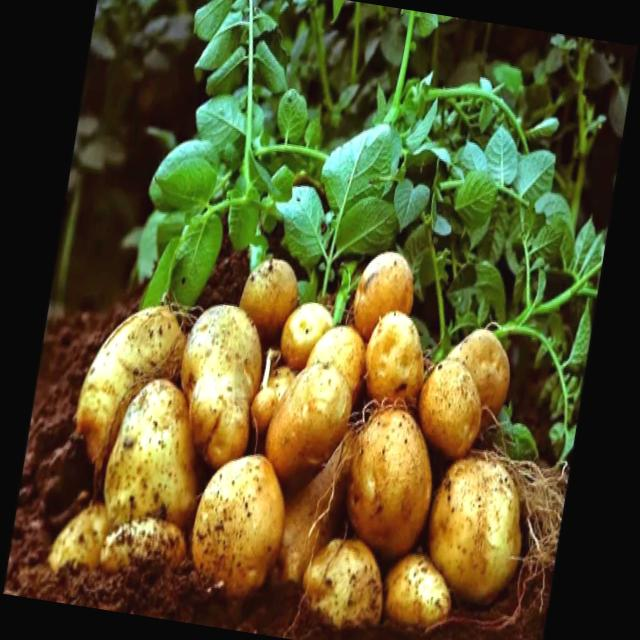potato: (164, 296, 274, 466), (422, 440, 536, 604), (186, 452, 290, 600), (342, 418, 442, 552), (260, 363, 360, 479), (291, 534, 398, 638), (412, 358, 490, 460), (360, 310, 436, 410)
